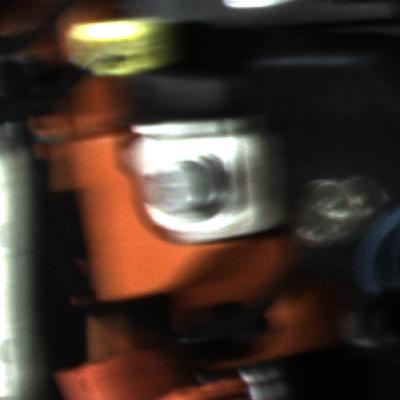nut_b: (138, 149, 227, 227)
